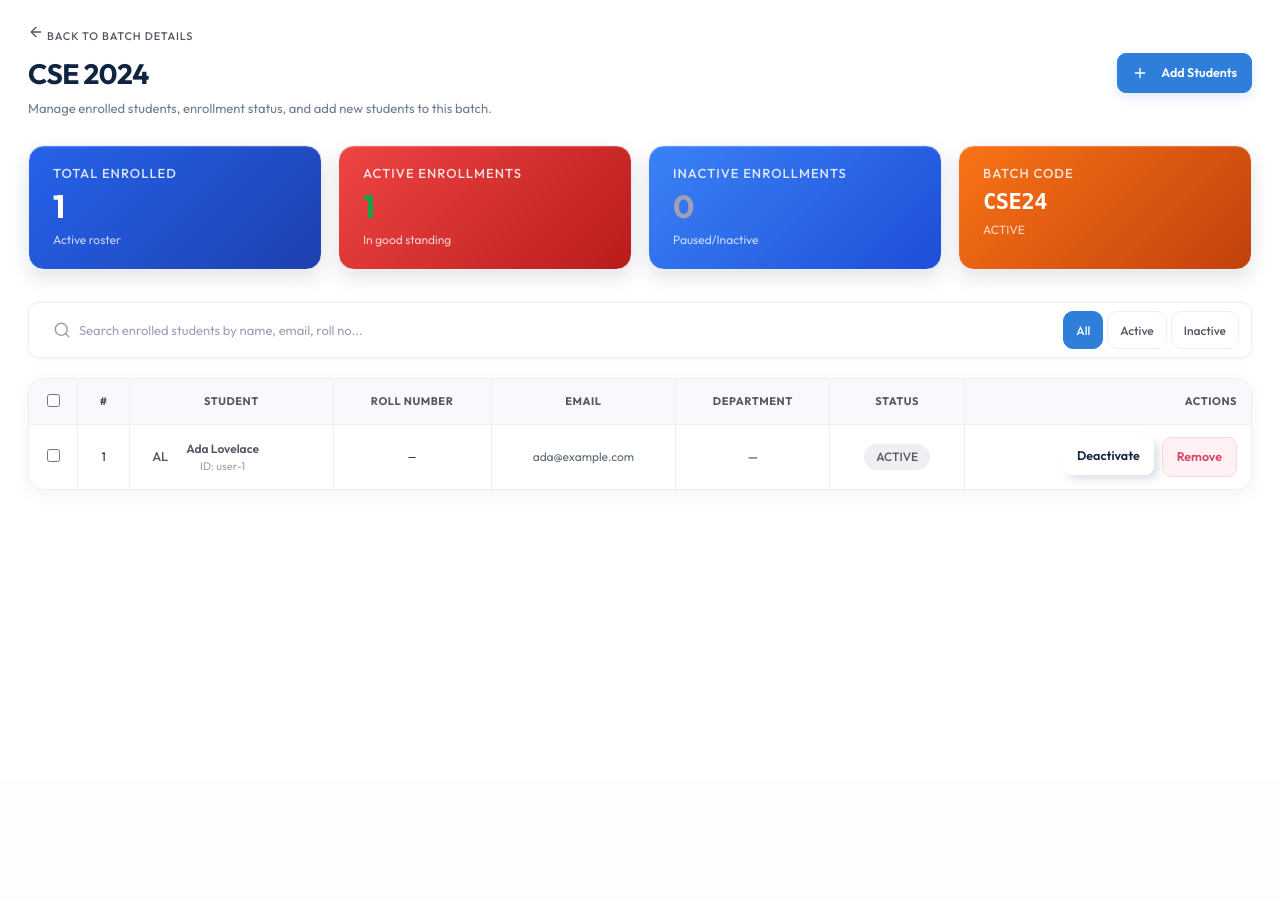
Test case: already-enrolled students are filtered out by their User id
Click the button "Add Students": click(1185, 72) [1117,52,1252,92]
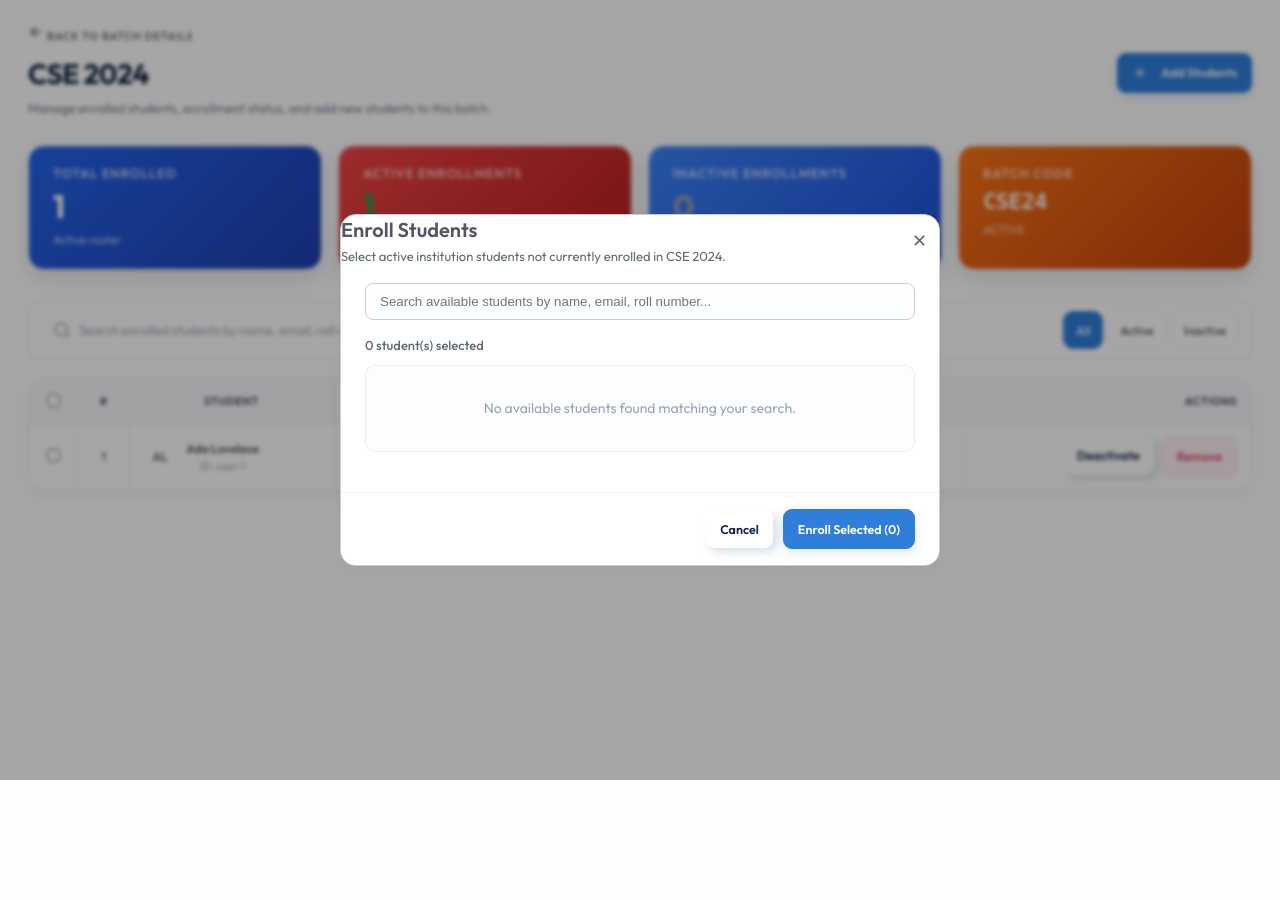
Now the heading "Enroll Students" is shown, box [341,217,477,242]
Now the text "No available students found matching your search." is shown, box [484,399,796,417]
